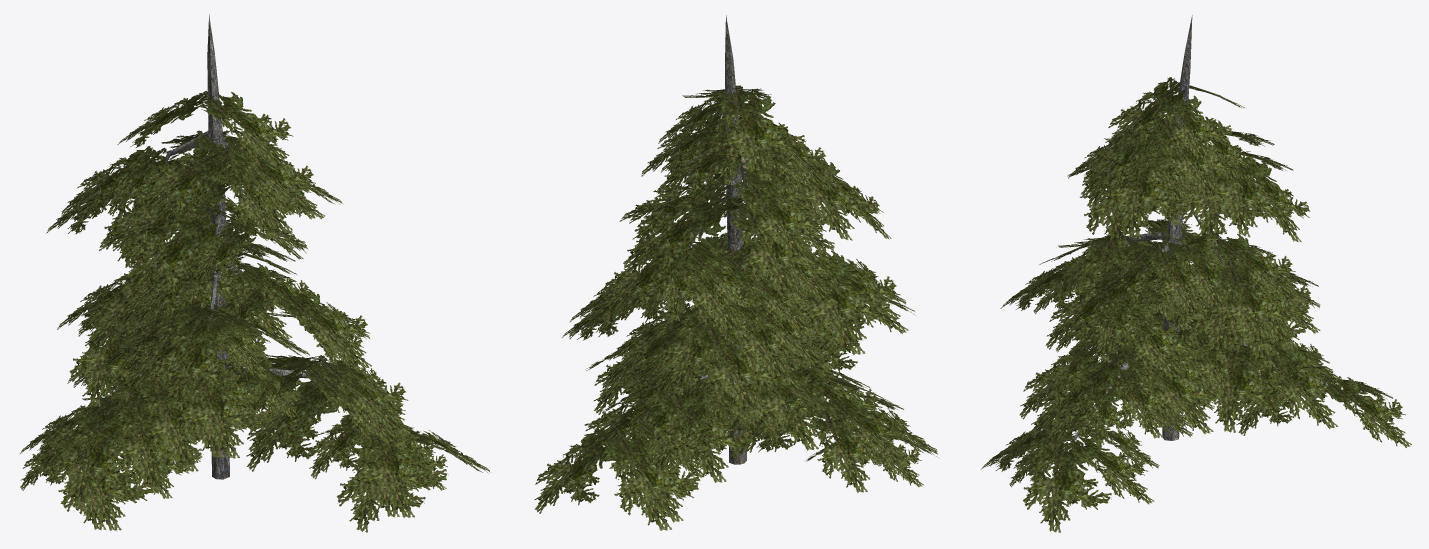
File: pine.glb
3 renders of one model, left to right at view 1: azimuth 30°, elevation 25°; view 2: azimuth 150°, elevation 25°; view 3: azimuth 270°, elevation 25°, orthographic. The views are drawn at different scales.
Parts seen in each view (by area): view 1: 5_pngaaa.com-2004453_0, 5_bark-2_0; view 2: 5_pngaaa.com-2004453_0, 5_bark-2_0; view 3: 5_pngaaa.com-2004453_0, 5_bark-2_0.
Part boxes in pixels (left/top/right/bottom): 5_pngaaa.com-2004453_0: left=20, top=91, right=490, bottom=532; 5_bark-2_0: left=165, top=14, right=354, bottom=479; 5_pngaaa.com-2004453_0: left=534, top=85, right=938, bottom=530; 5_bark-2_0: left=626, top=15, right=881, bottom=465; 5_pngaaa.com-2004453_0: left=981, top=77, right=1411, bottom=532; 5_bark-2_0: left=1065, top=15, right=1247, bottom=451.
Bounding box in the file's own units: 8.14 × 8.81 × 8.16.
Materials: 2 (2 with a texture image).
